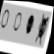correct: (23, 12, 37, 41)
not correct: (32, 9, 52, 48)
